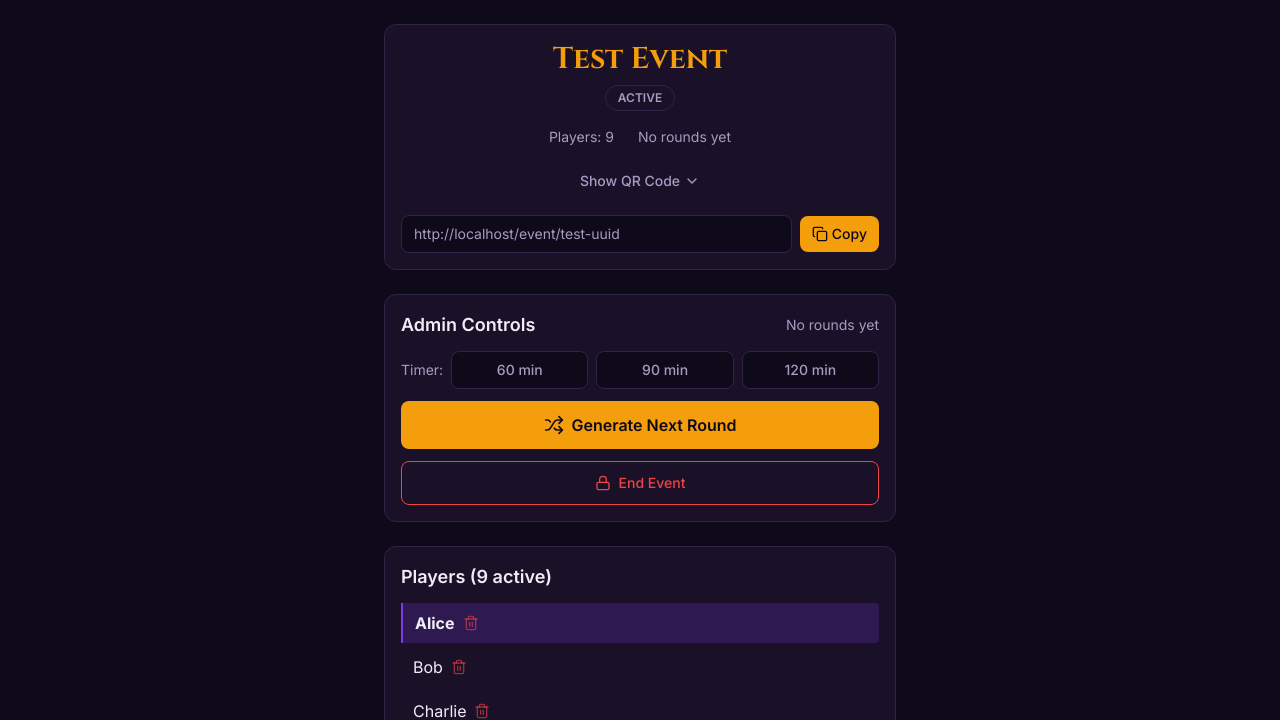
Test case: Admin Passphrase Authentication › Admin Passphrase Modal Flow › opens passphrase modal when gated action clicked without passphrase
The image size is (1280, 720).
Expected: the element with test id "admin-controls" is shown, [384,294,896,522]
# Click generate round which is gated on passphrase
Click the button with test id "generate-round-btn": click(640, 425) [401,401,879,449]
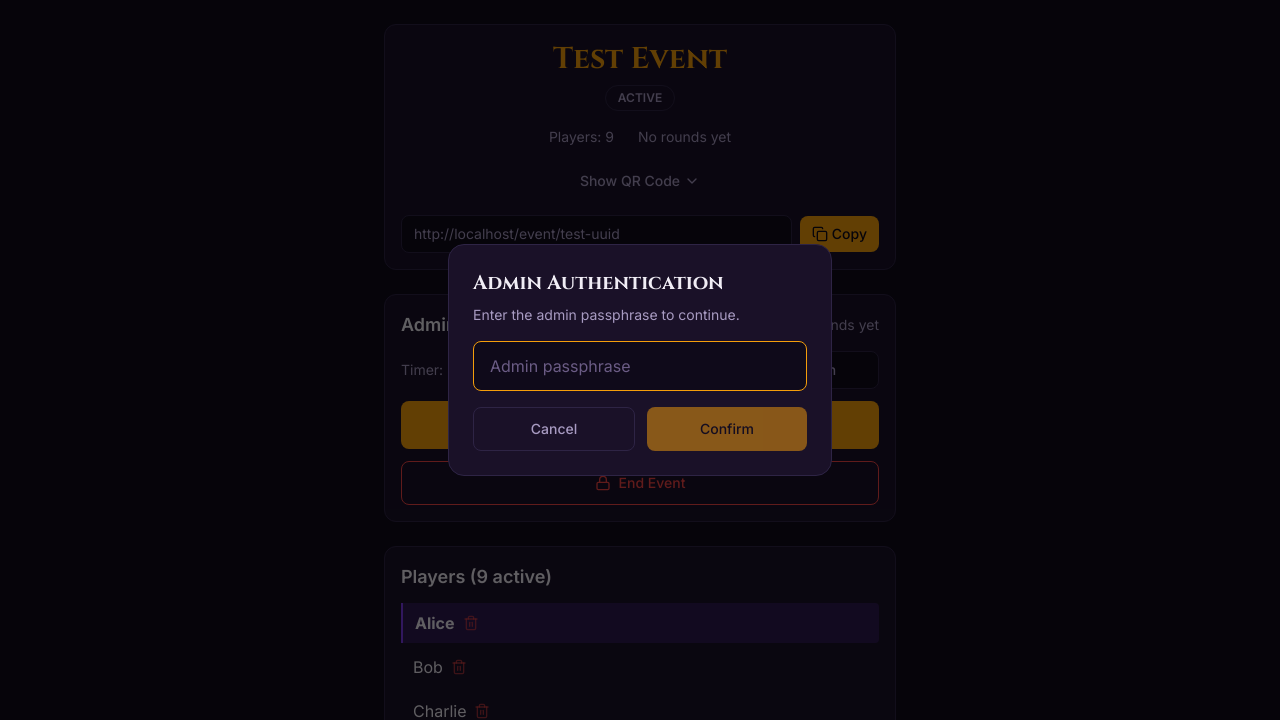
Expected: the element with test id "admin-passphrase-modal" is shown
Expected: the password field with test id "admin-passphrase-input" is shown, [473,341,807,391]
